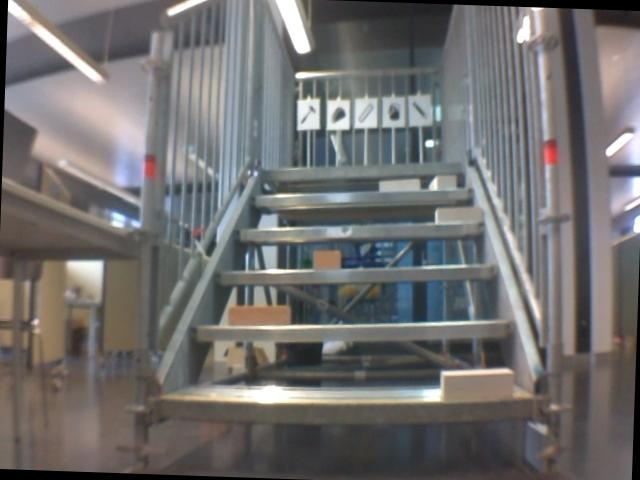brick: (439, 366, 514, 403), (228, 303, 289, 327), (434, 206, 481, 224), (378, 177, 418, 193), (312, 248, 339, 269), (429, 173, 456, 189)
bucket: (386, 99, 403, 122)
edge: (160, 384, 530, 432), (189, 309, 514, 349), (216, 255, 500, 293), (231, 212, 486, 248), (251, 181, 474, 212), (261, 155, 459, 183)
hammer: (297, 103, 317, 125)
pencil: (408, 100, 429, 123)
ruler: (355, 101, 375, 125)
stairs: (128, 3, 580, 471)
steps: (155, 149, 548, 442)
taco: (329, 104, 347, 126)
